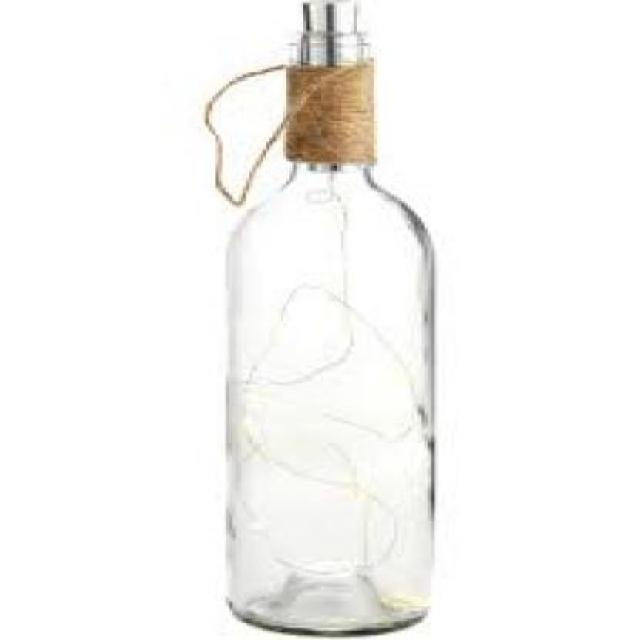kaca: (220, 29, 435, 631)
